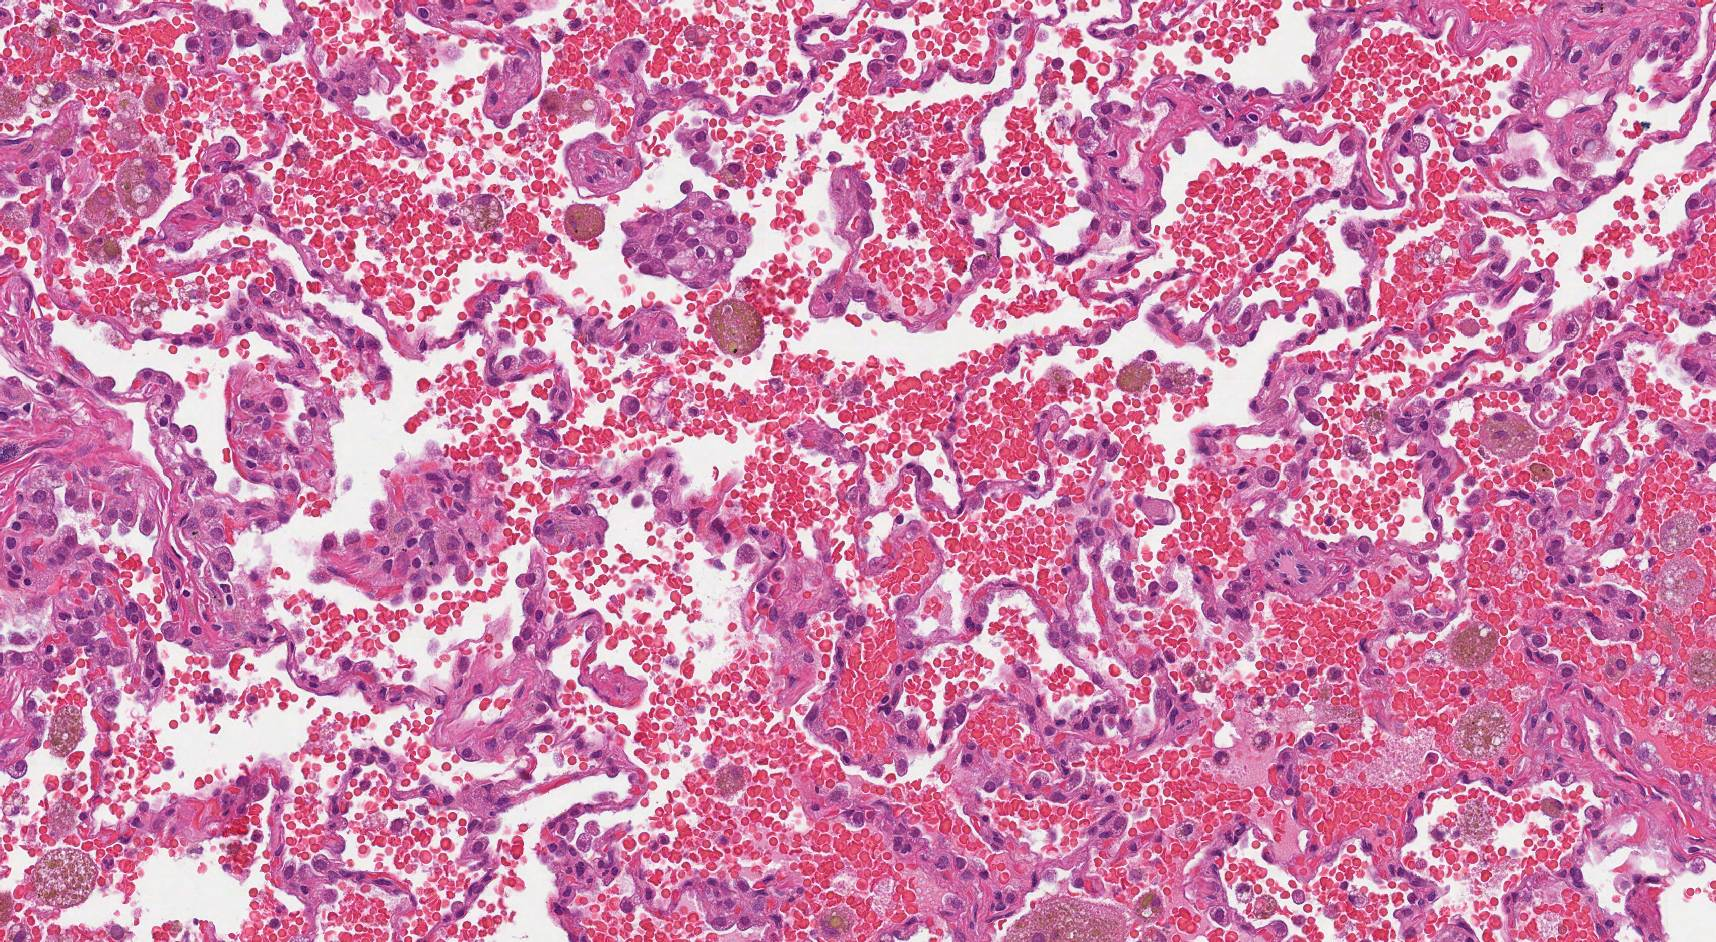stas: (620, 191, 755, 293)
